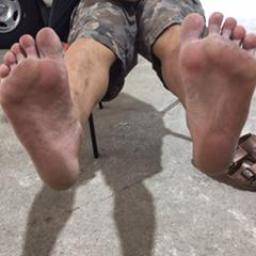Plantar View -Both Feet-: (1, 8, 255, 198)
